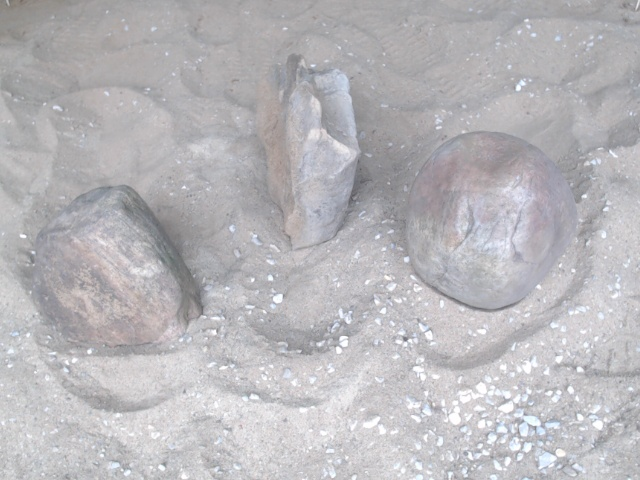rock: (398, 125, 583, 319), (23, 179, 210, 363), (250, 46, 366, 257)
